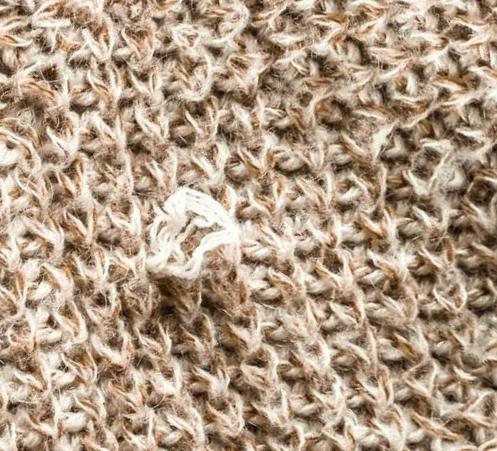snag: (133, 175, 268, 312)
